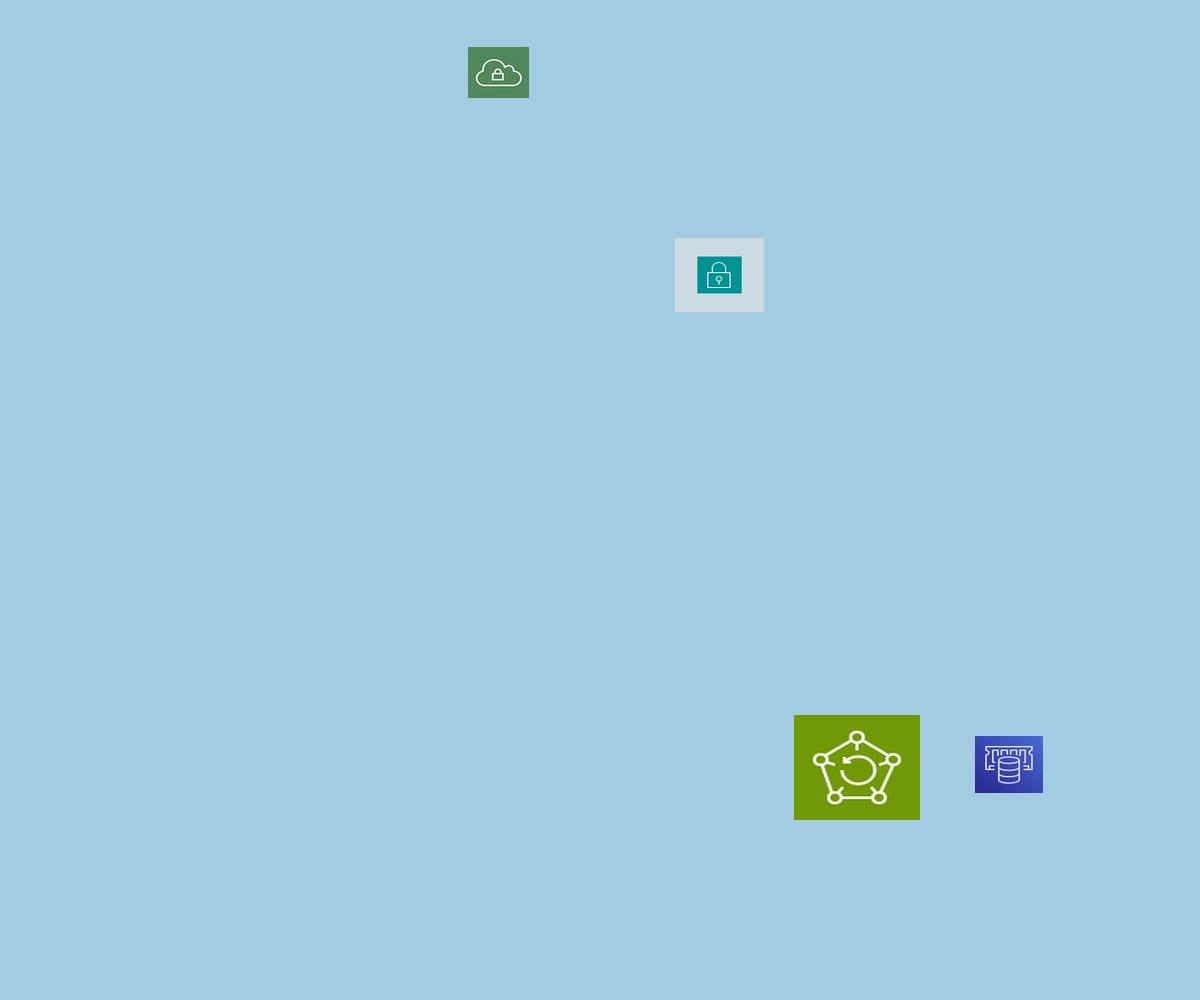AWS-Backup: (794, 715, 920, 820)
AWS-ElastiCache: (975, 736, 1043, 793)
AWS-Private-subnet: (675, 238, 764, 312)
AWS-Private_vpc: (468, 47, 529, 98)
